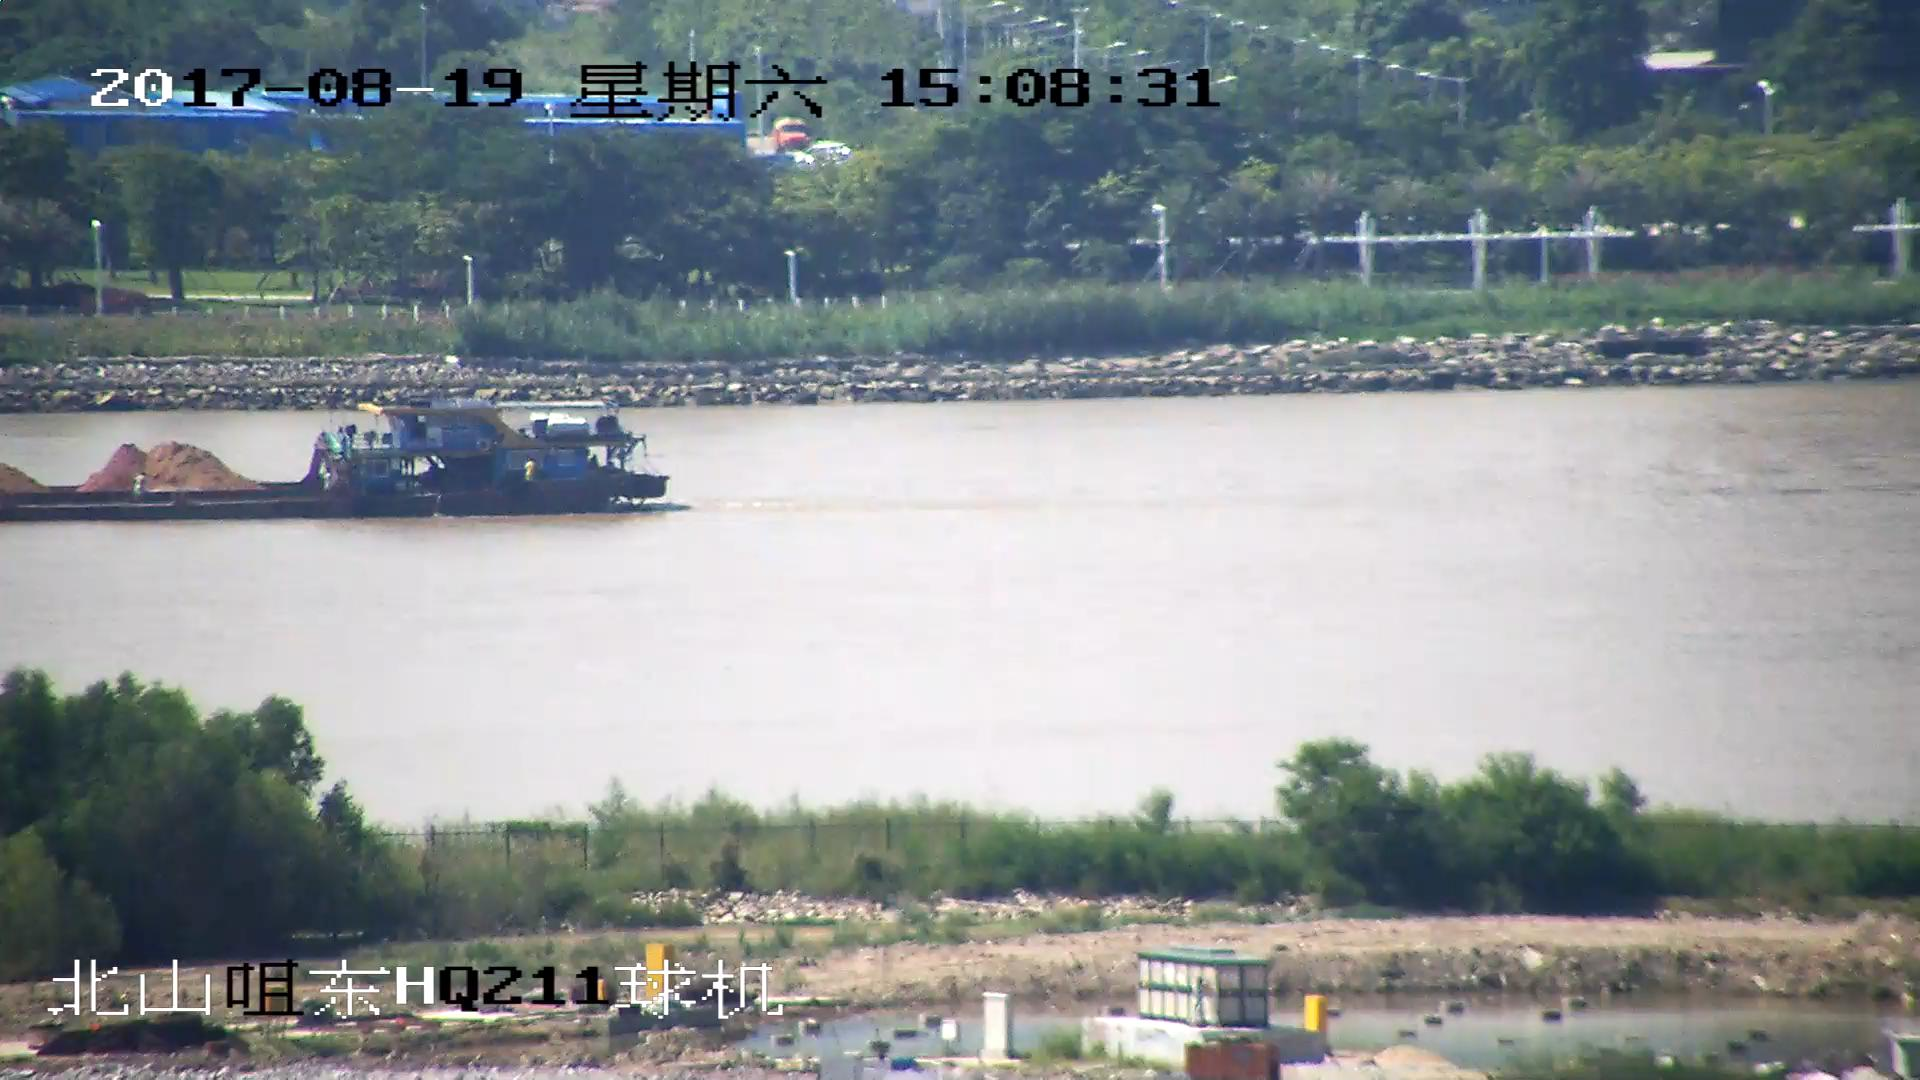ore carrier: (1, 387, 672, 522)
